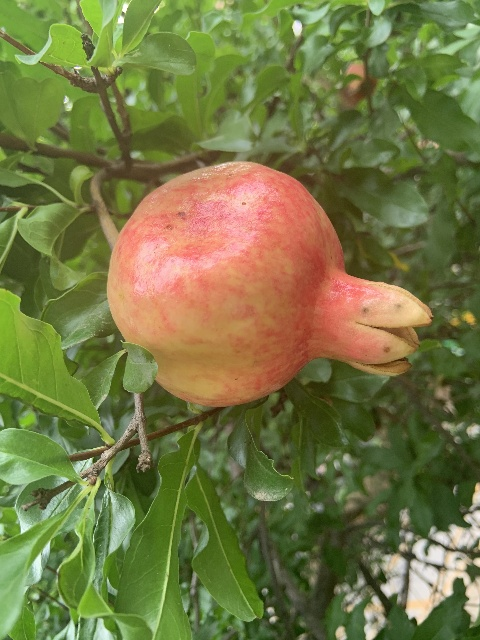ripe: (108, 161, 436, 408)
